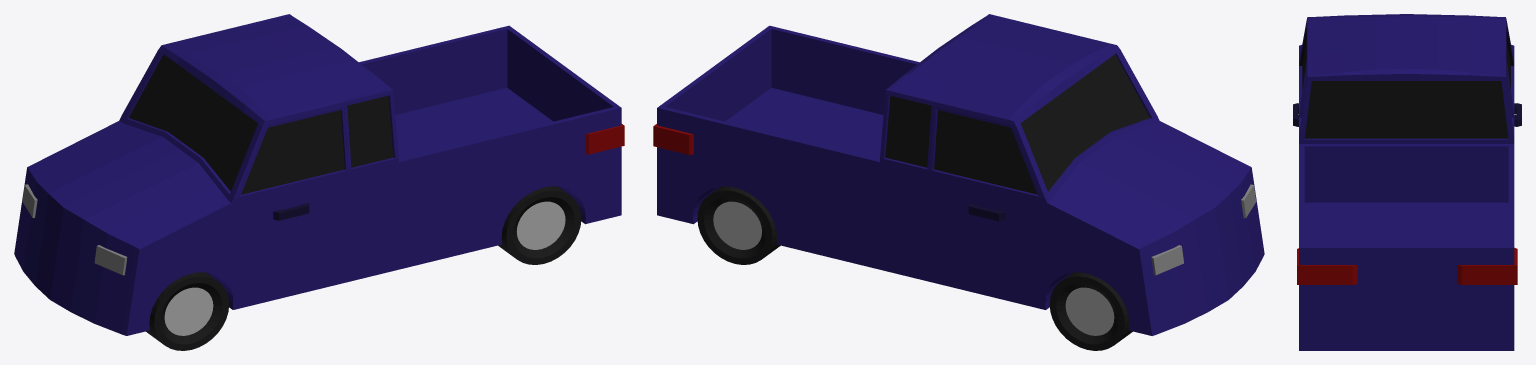
File: car001.fbx
3 views of the same model, side by side, from view 1: azimuth 30°, elevation 25°; view 2: azimuth 150°, elevation 25°; view 3: azimuth 270°, elevation 25° (orthographic). The views are drawn at different scales.
Visible parts, largest first — view 1: Carro, Porta 02, Rodas, Farol Frontal, Farol Traseiro; view 2: Carro, Porta 01, Rodas, Farol Frontal, Farol Traseiro; view 3: Carro, Farol Traseiro, Porta 01, Porta 02.
Part boxes in pixels (left/top/right/bottom): Carro: left=14, top=14, right=621, bottom=335; Porta 02: left=230, top=101, right=351, bottom=309; Rodas: left=146, top=186, right=581, bottom=350; Farol Frontal: left=22, top=184, right=127, bottom=275; Farol Traseiro: left=585, top=124, right=624, bottom=154; Carro: left=657, top=14, right=1264, bottom=335; Porta 01: left=927, top=101, right=1048, bottom=309; Rodas: left=697, top=186, right=1132, bottom=350; Farol Frontal: left=1151, top=184, right=1256, bottom=275; Farol Traseiro: left=653, top=124, right=693, bottom=154; Carro: left=1299, top=14, right=1514, bottom=350; Farol Traseiro: left=1297, top=247, right=1517, bottom=284; Porta 01: left=1506, top=18, right=1521, bottom=126; Porta 02: left=1293, top=18, right=1307, bottom=126.
Bounding box in the file's own units: 686 × 269 × 275.
